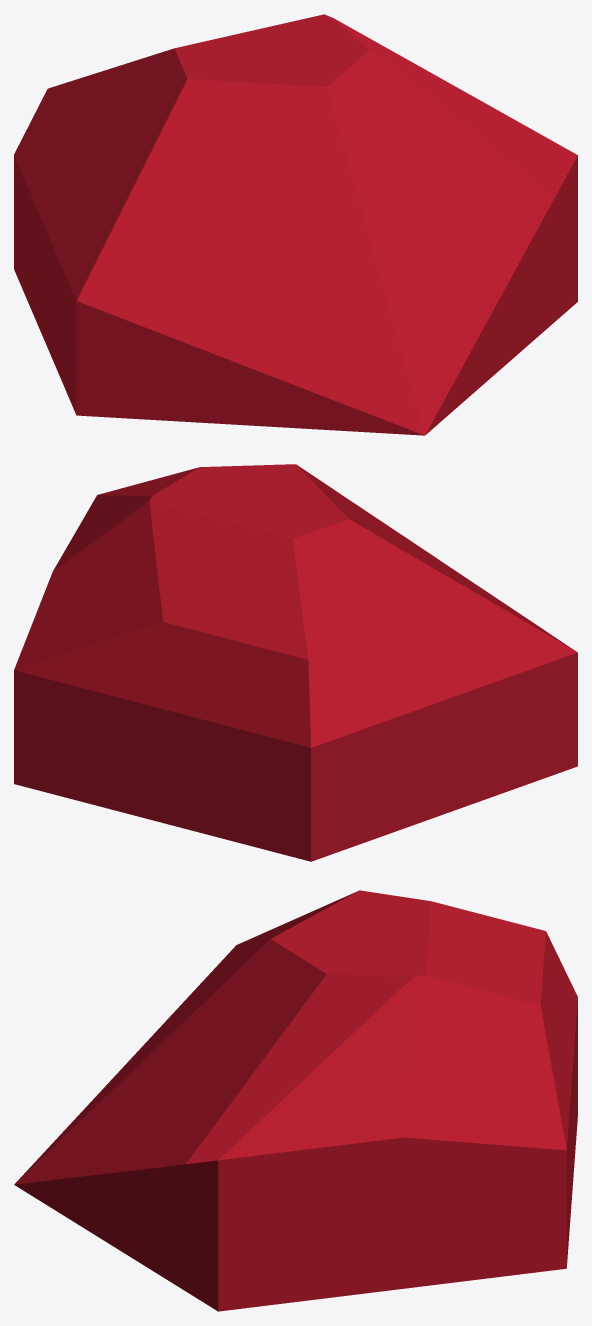
File: tree-dead-leaves-003.glb
The picture shows the model from 3 angles, top to bottom: view 1: azimuth 30°, elevation 25°; view 2: azimuth 150°, elevation 25°; view 3: azimuth 270°, elevation 25°; orthographic projection. The views are drawn at different scales.
Visible parts, largest first — view 1: Circle.056_430; view 2: Circle.056_430; view 3: Circle.056_430.
Part boxes in pixels (x1,y1,x2,y2): Circle.056_430: (14,14,577,435); Circle.056_430: (14,464,577,861); Circle.056_430: (14,890,577,1311).
Bounding box in the file's own units: 0.8686 × 0.423 × 0.8344.
